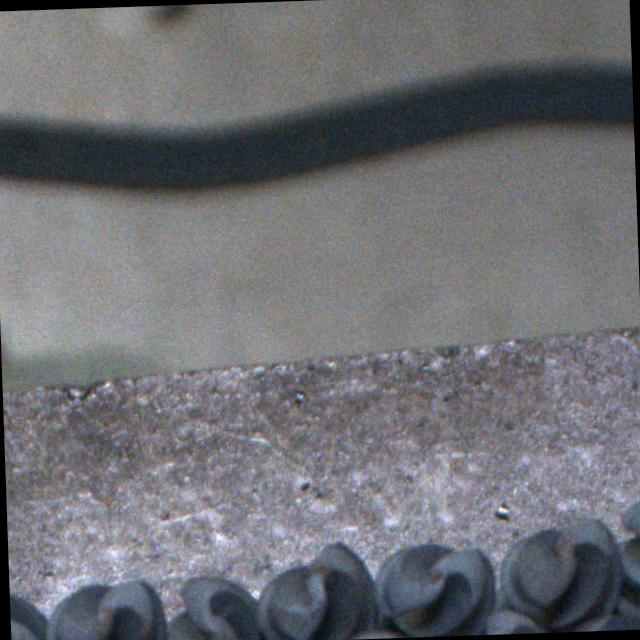tool_b: (498, 516, 620, 634), (254, 538, 378, 640), (371, 540, 500, 638), (41, 578, 164, 640), (156, 573, 262, 640)
